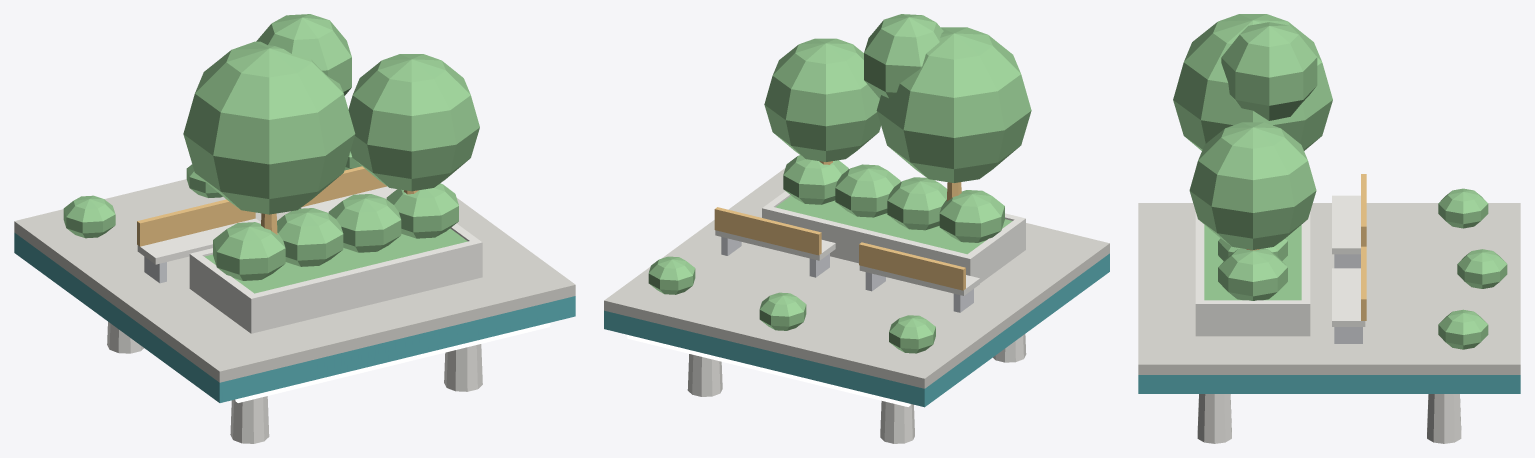
Rendered from arcology-towers-and-skyways-planted-deck-tile-667ba717__23264.glb.
3 views of the same model, side by side, from view 1: azimuth 30°, elevation 25°; view 2: azimuth 150°, elevation 25°; view 3: azimuth 270°, elevation 25° (orthographic). The views are drawn at different scales.
Parts seen in each view (by area): view 1: planted-deck-tile; view 2: planted-deck-tile; view 3: planted-deck-tile.
Boxes of the visible parts, bbox=[...] form: planted-deck-tile: bbox=[14, 14, 575, 443]; planted-deck-tile: bbox=[604, 14, 1109, 443]; planted-deck-tile: bbox=[1138, 14, 1520, 443].
Bounding box in the file's own units: 8 × 8.09 × 8.
